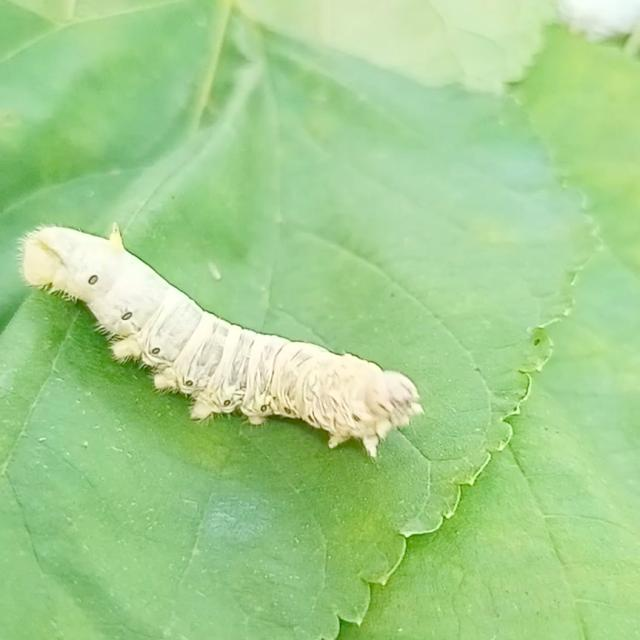Grasserie: (3, 178, 495, 495)
